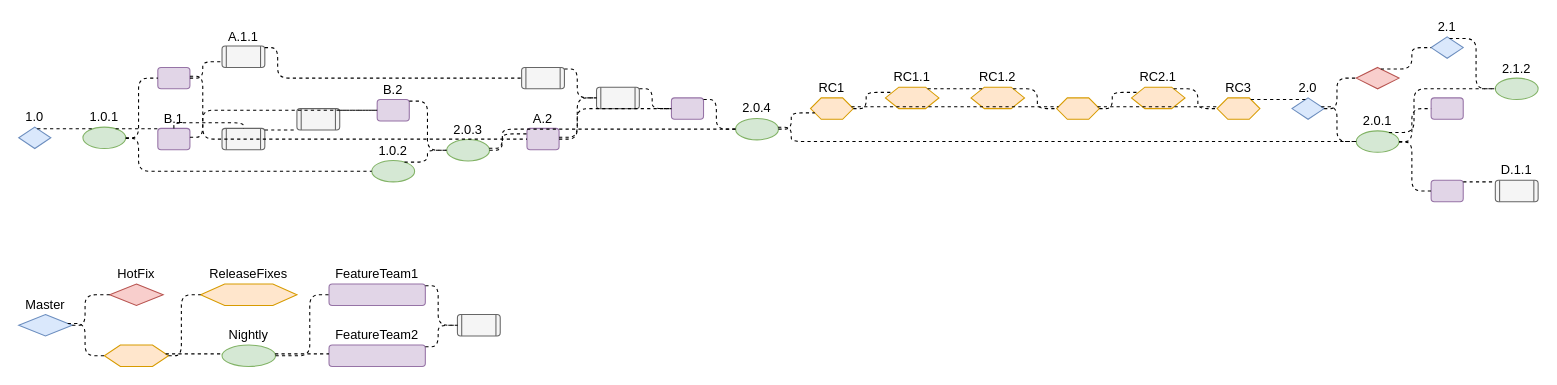
The diagram is 1557 pixels wide and 385 high, and some of its shapes have lost their labels. Here are the shapes that lost their labels. From the top down, the centre of each, then its label:
(173,77): A.1
(542,77): A.1.2
(617,97): A.2.1
(1377,77): HF1
(318,119): B.1.2
(687,108): A.3
(1077,108): RC2
(1446,108): C.1
(243,138): B.1.1
(1446,190): D.1
(478,325): Dev
(136,355): Release
